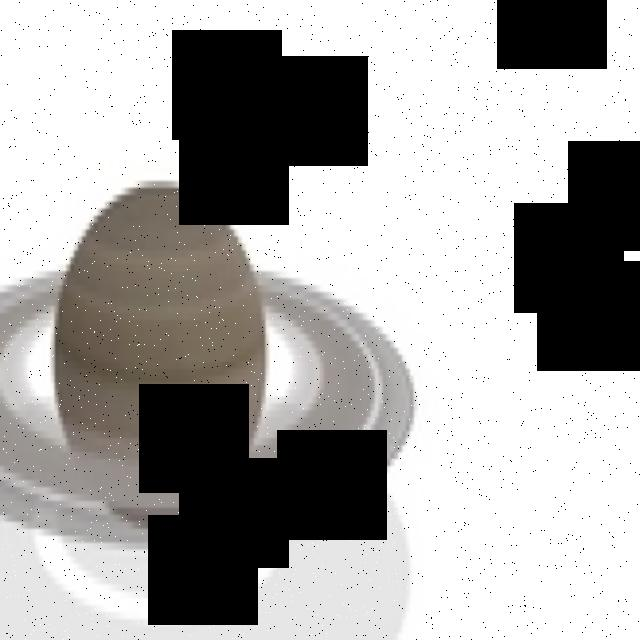Saturn: (0, 173, 418, 550)
